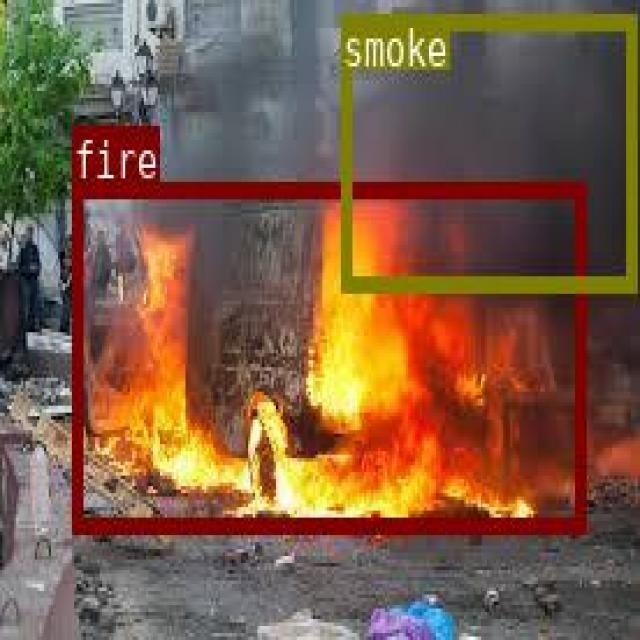fire: (71, 181, 583, 530)
smoke: (341, 14, 634, 288)
